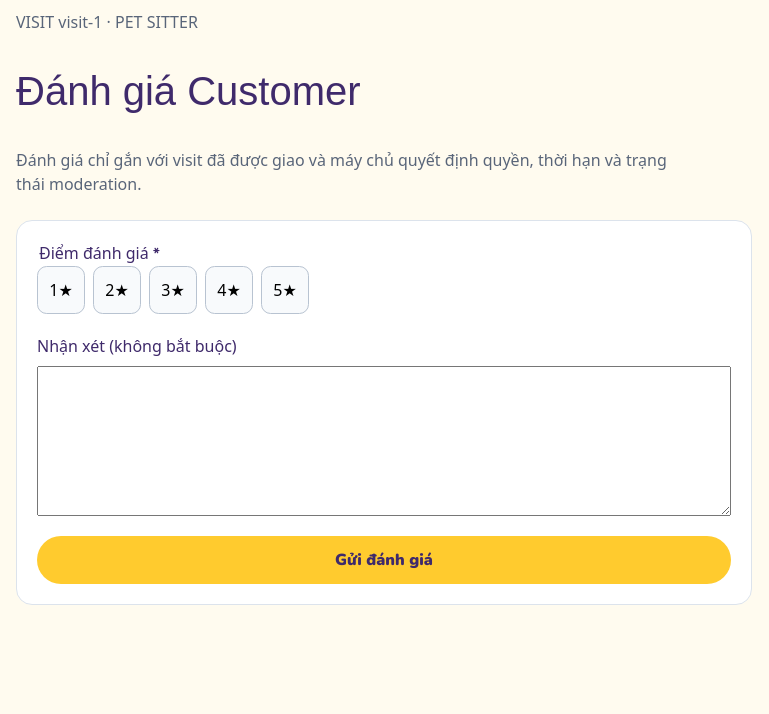
it: Sitter receives the policy decision message
Click the button named "4 sao" at (229, 290), box 205,266 -> 253,314
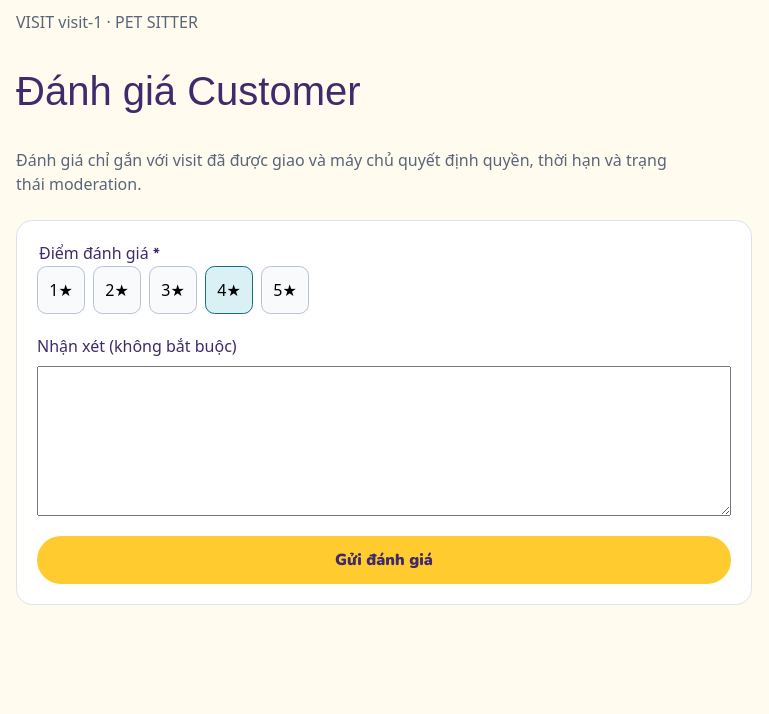
Click the button "Gửi đánh giá" at (384, 560), box 37,536 -> 731,584
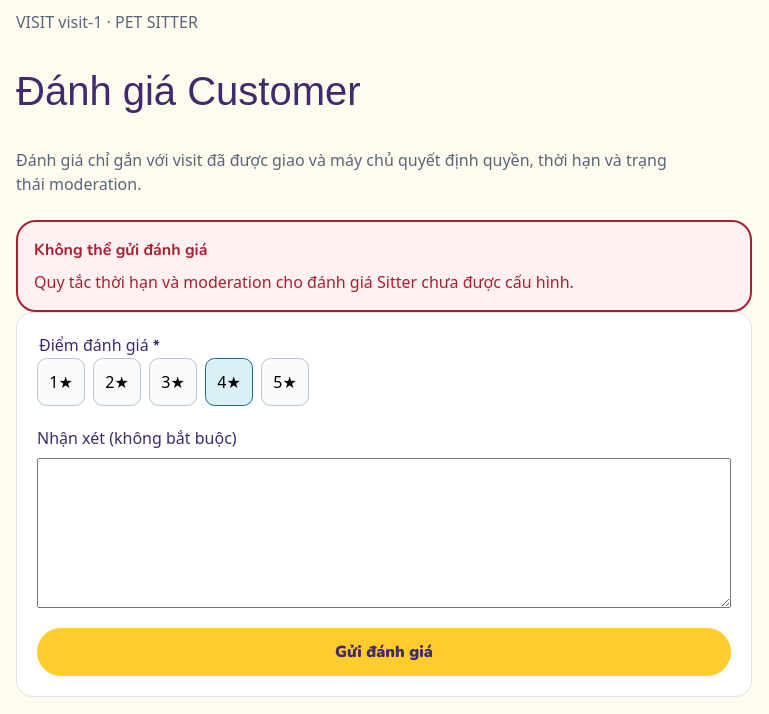
expect the text "thời hạn và moderation" is shown: met, box 34,271 -> 574,293
